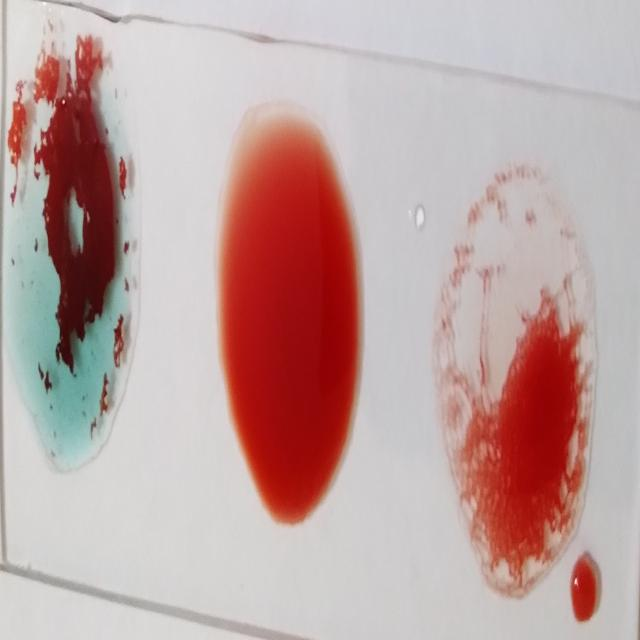A: (4, 27, 133, 469)
D: (439, 155, 588, 588)
